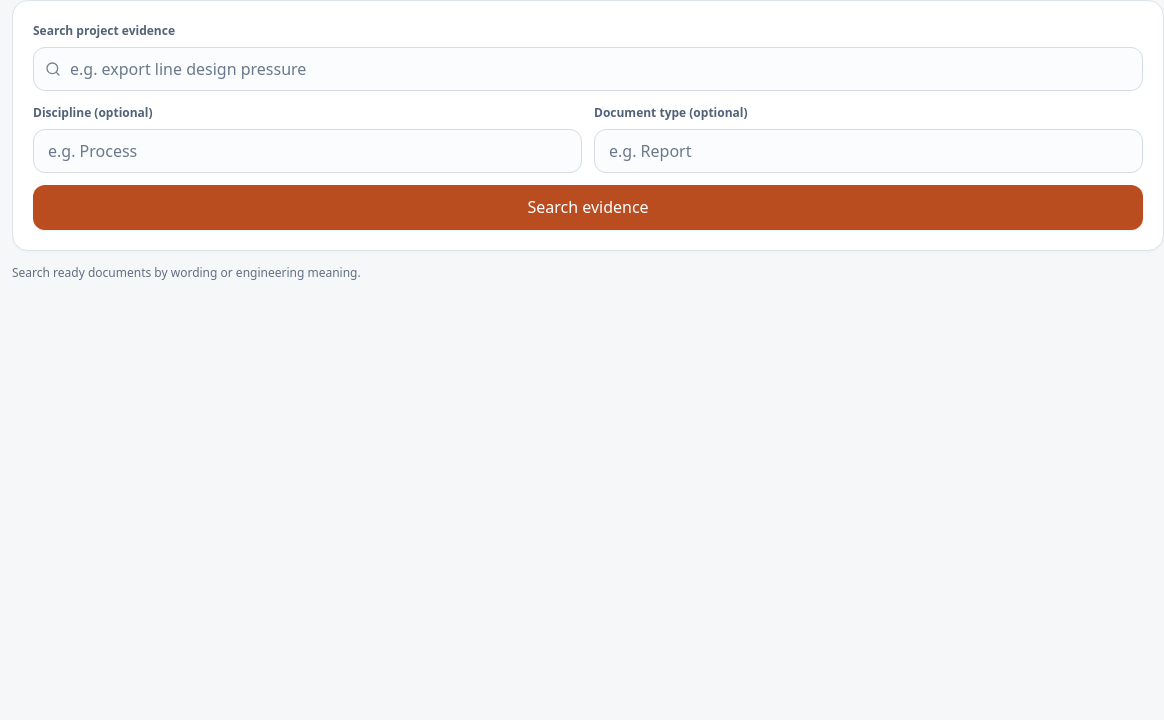
Test: Engineering Search accessibility and reflow › preserves the POST endpoint and every existing search filter
Type "design pressure" into the search field labelled "Search project evidence" at (588, 69), box [33,47,1143,91]
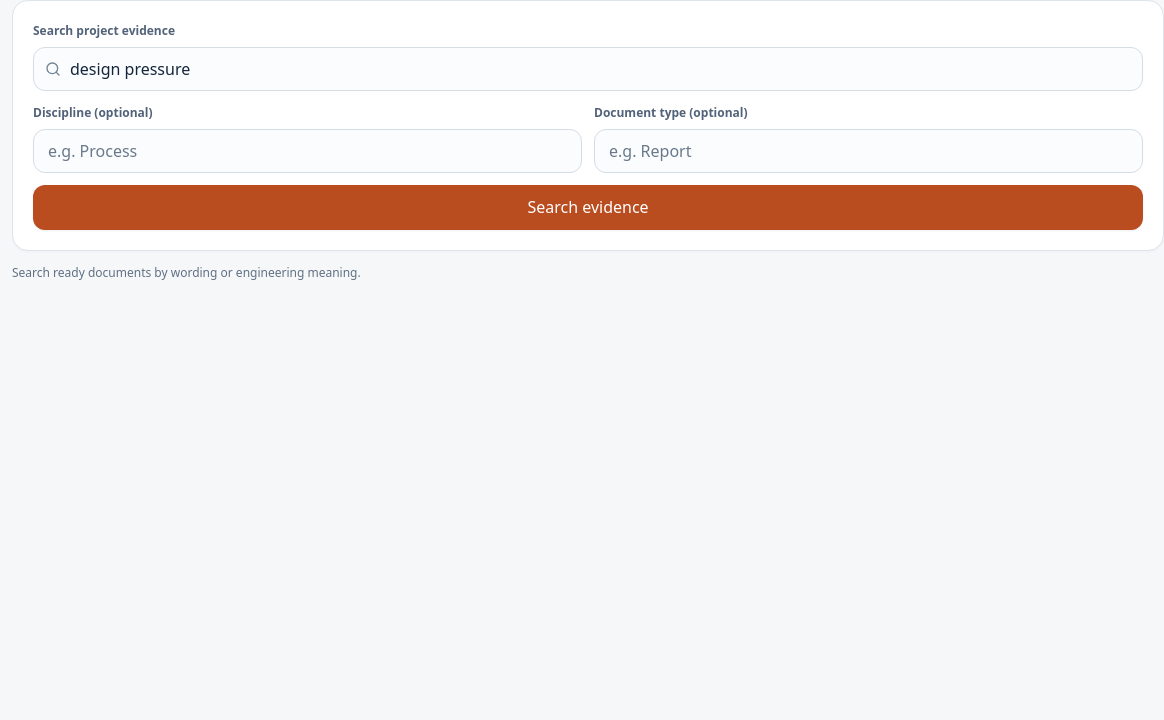
Type "Process" into the field labelled "Discipline (optional)" at (308, 151), box [33,129,582,173]
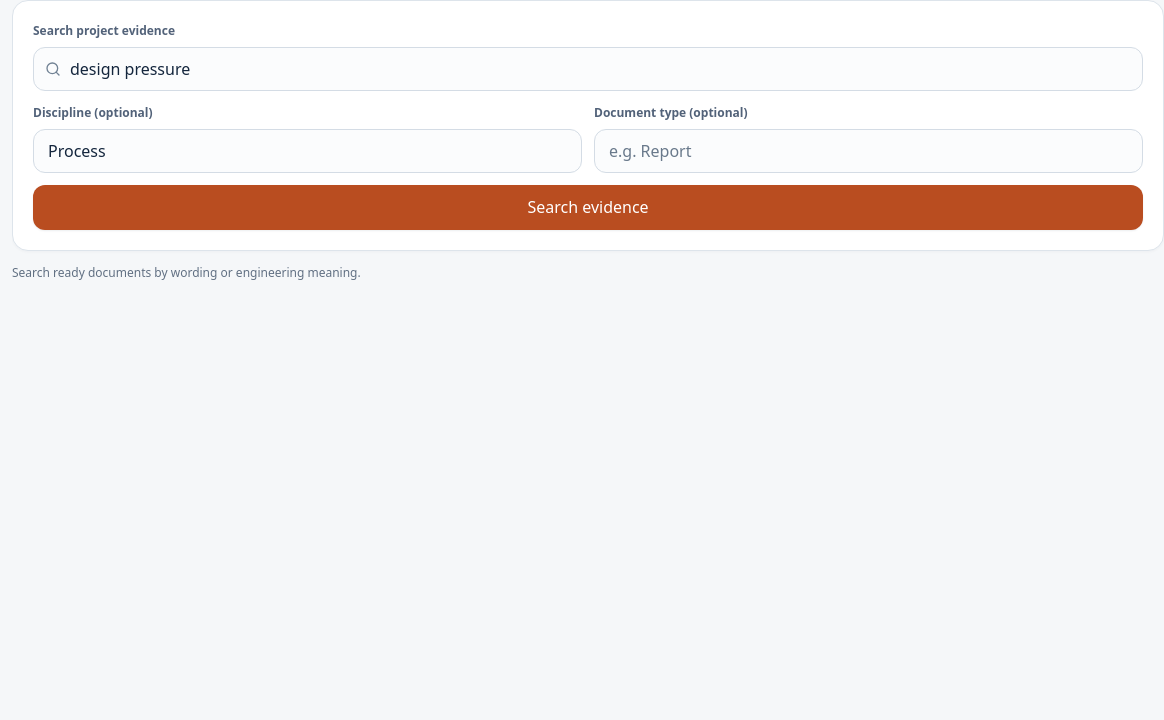
Type "Report" into the field labelled "Document type (optional)" at (868, 151), box [594,129,1143,173]
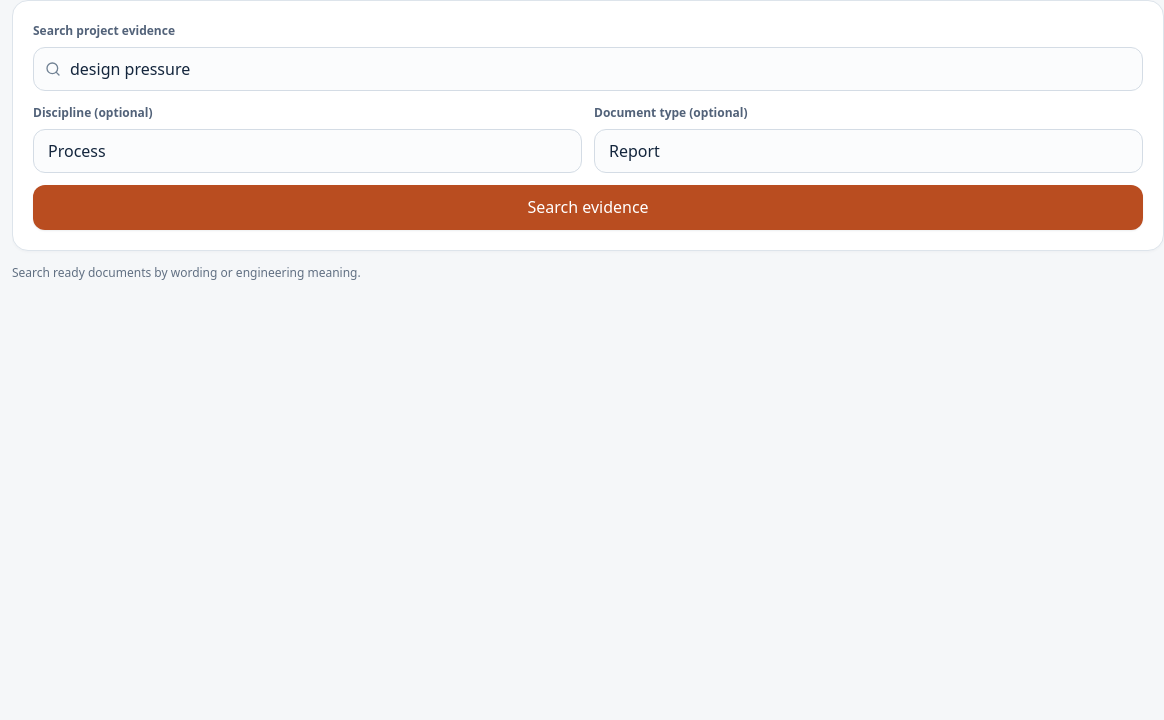
Submit the form "Search project evidence", box [12,0,1163,251]
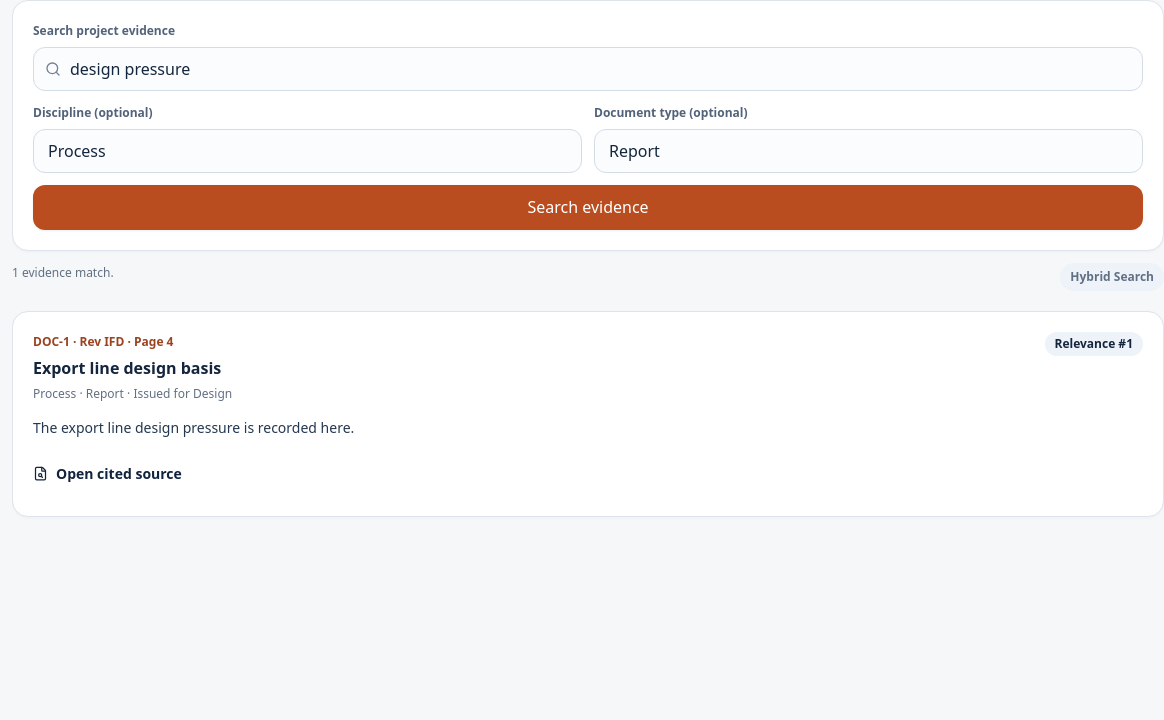
Result: the element "Export line design basis" is shown at [12,311,1163,517]
Result: the message reads "1 evidence match." at [12,264,114,281]
